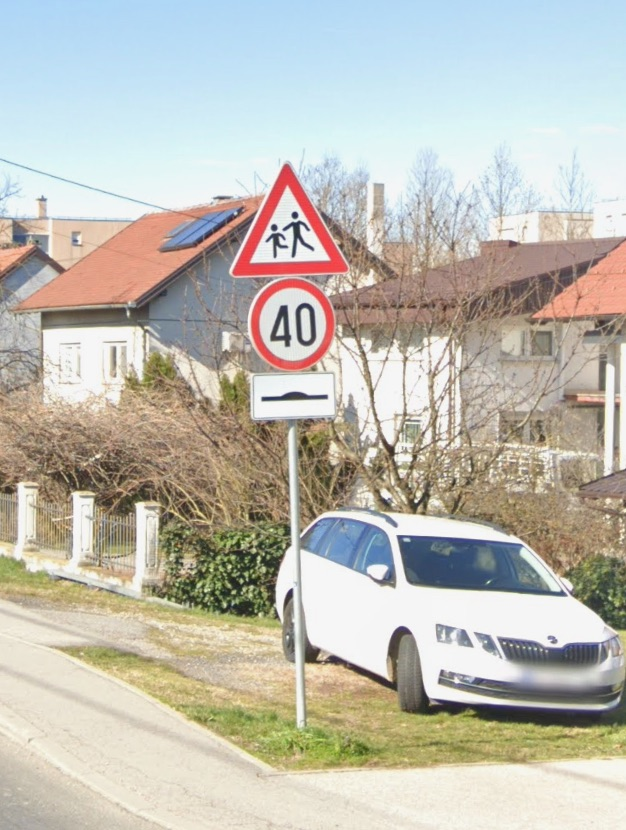Ograničenje brzine 40: (248, 277, 336, 370)
